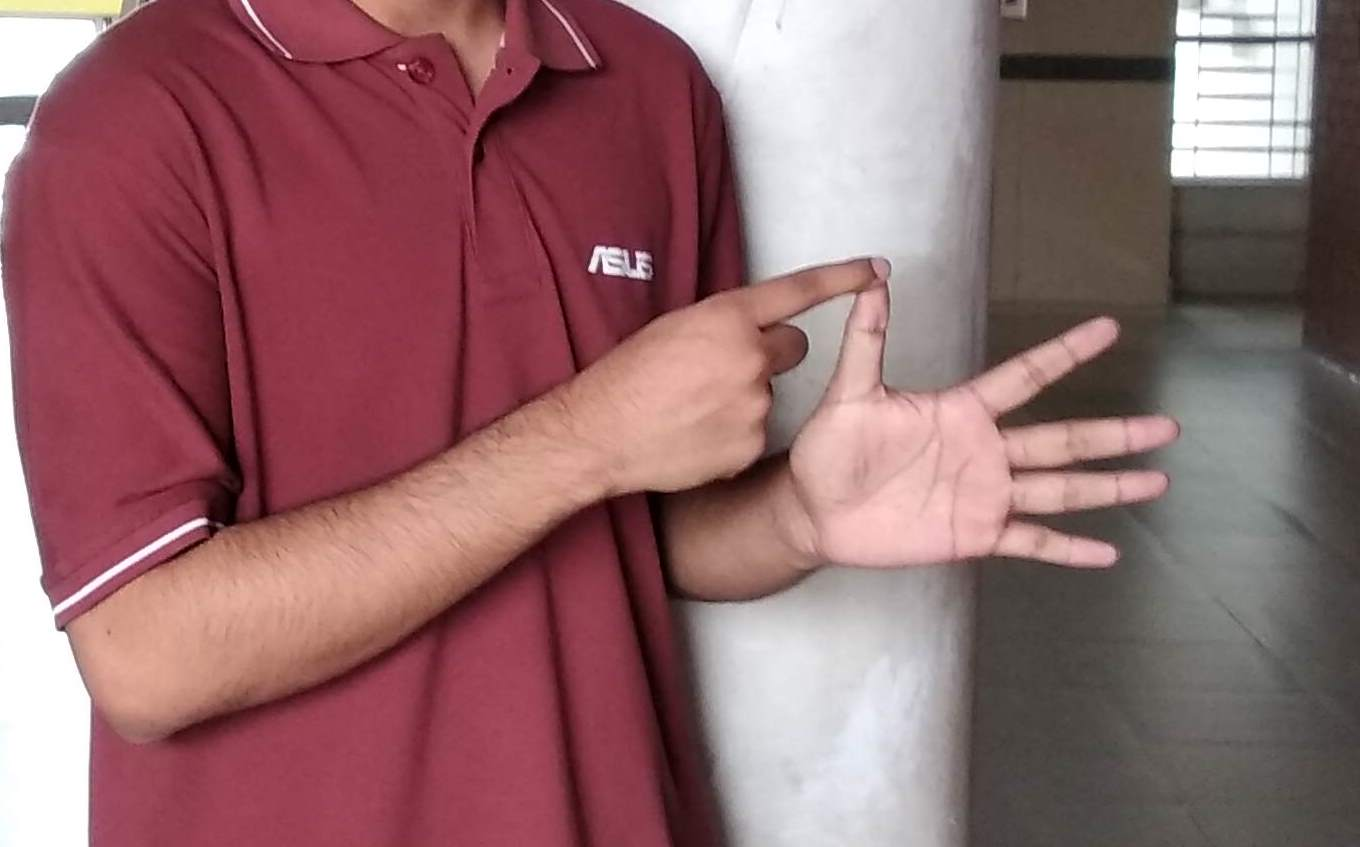a: (638, 253, 1190, 587)
